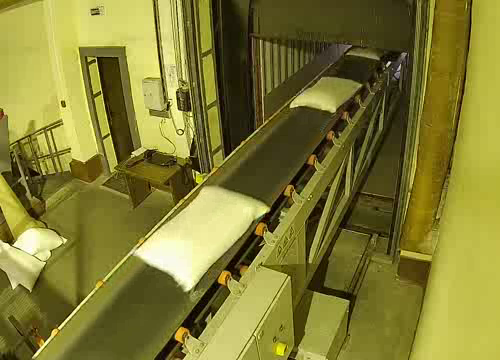bag: (125, 180, 277, 293), (287, 73, 366, 115), (346, 42, 391, 62)
